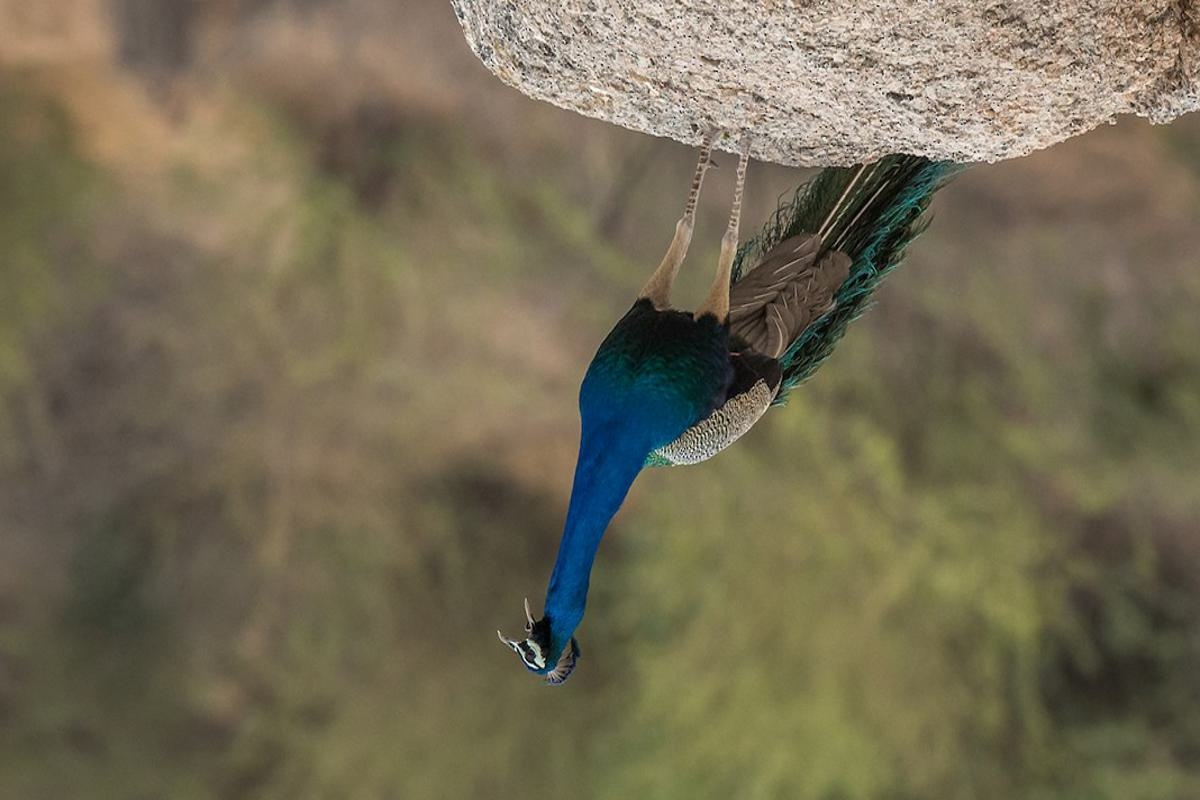peacock: (498, 172, 927, 712)
